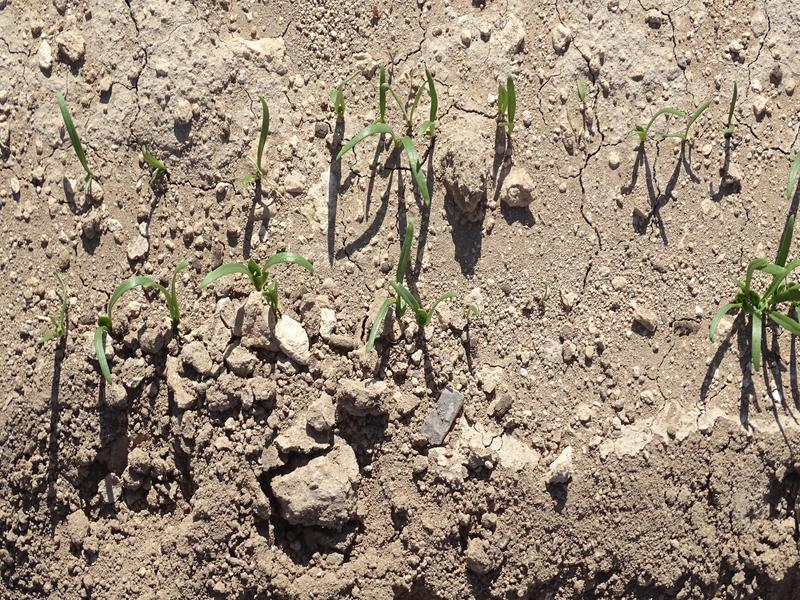Espinaca: (92, 254, 191, 384), (352, 68, 442, 204), (363, 223, 447, 351), (705, 258, 800, 357), (205, 254, 317, 291), (635, 101, 704, 155), (52, 91, 94, 174), (491, 76, 526, 134), (247, 97, 271, 175)
